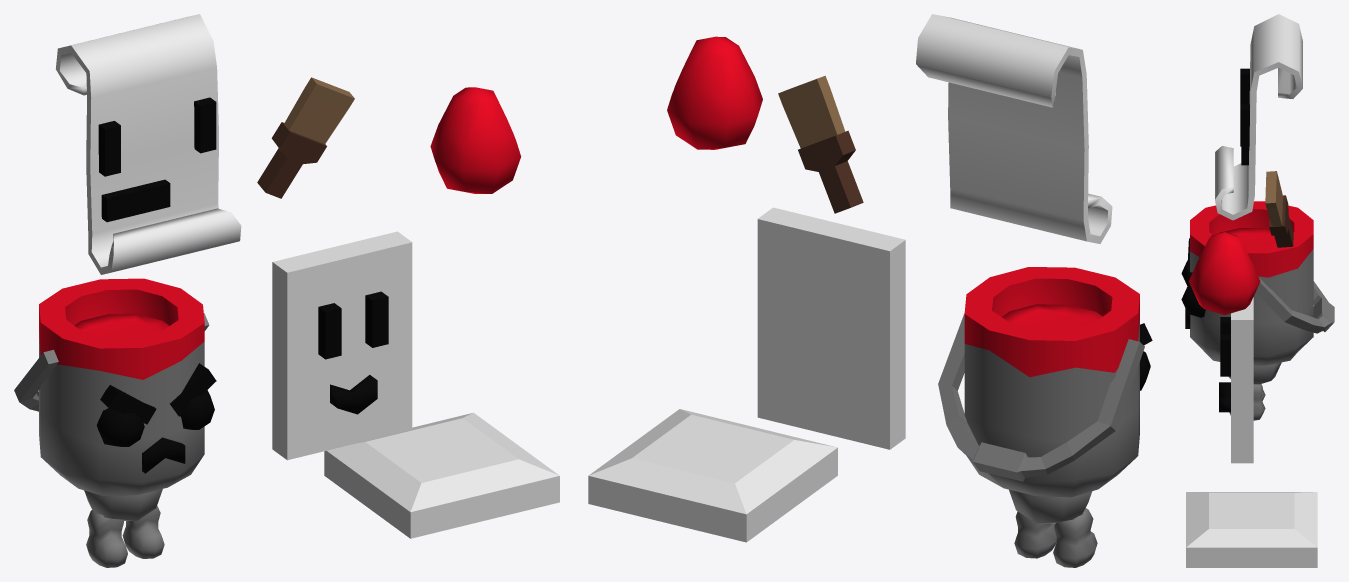
Rendered from PaintMan.fbx.
3 views of the same model, side by side, from view 1: azimuth 30°, elevation 25°; view 2: azimuth 150°, elevation 25°; view 3: azimuth 270°, elevation 25° (orthographic). The views are drawn at different scales.
Parts seen in each view (by area): view 1: Plane, Cube.010, Cube.014, Cube.013, Cube.009, Cube.004, Cube.017, Cube.019, Cube.015, Cube.020, Cube.001, Cube.006 (+6 smaller); view 2: Cube.014, Cube.010, Plane, Cube.013, Cube.009, Cube.008, Cube.004, Cube.006, Cube.003, Cube.005, Cube.007; view 3: Cube.013, Cube.010, Plane, Cube.009, Cube.014, Cube.008, Cube.004, Cube.019, Cube.017, Cube.003, Cube.015, Cube.005 (+2 smaller).
Boxes of the visible parts, x1,y1,x2,y2 form: Plane: (56,14,241,274); Cube.010: (39,278,204,496); Cube.014: (272,231,412,460); Cube.013: (324,412,559,538); Cube.009: (430,87,521,193); Cube.004: (257,77,354,198); Cube.017: (318,291,388,359); Cube.019: (98,97,216,176); Cube.015: (96,390,214,446); Cube.020: (101,179,170,222); Cube.001: (100,363,216,424); Cube.006: (86,510,127,567); Cube.014: (757,207,905,449); Cube.010: (964,267,1139,497); Plane: (916,14,1112,243); Cube.013: (588,409,837,542); Cube.009: (667,36,762,149); Cube.008: (938,313,1144,481); Cube.004: (778,75,863,213); Cube.006: (1053,508,1097,567); Cube.003: (1002,304,1102,329); Cube.005: (1009,489,1091,523); Cube.007: (1014,511,1056,558); Cube.013: (1186,492,1317,567); Cube.010: (1190,201,1313,365); Plane: (1215,14,1302,220); Cube.009: (1189,232,1260,315); Cube.014: (1231,297,1253,463); Cube.008: (1256,278,1334,333); Cube.004: (1265,171,1293,247); Cube.019: (1240,68,1249,146); Cube.017: (1220,317,1230,376); Cube.003: (1219,228,1275,245); Cube.015: (1181,261,1205,317); Cube.005: (1228,362,1281,384).
Size of the model in its own units: 1088 by 1128 by 397.
